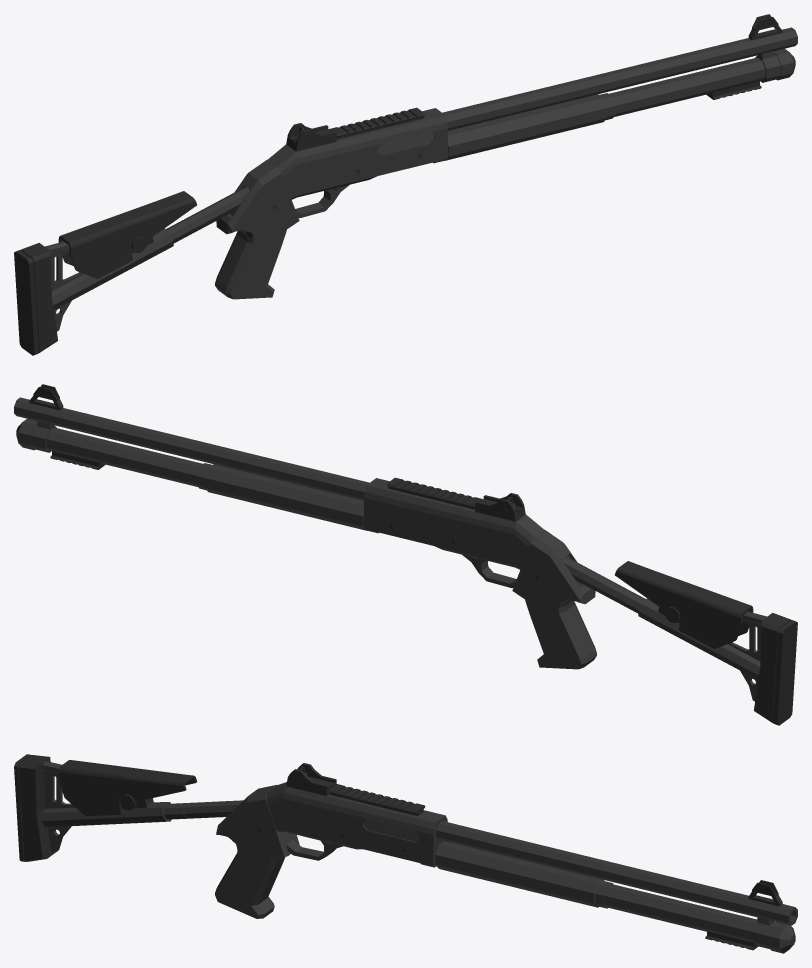
File: Shotgun2_01.fbx
The picture shows the model from 3 angles, top to bottom: view 1: azimuth 30°, elevation 25°; view 2: azimuth 150°, elevation 25°; view 3: azimuth 330°, elevation 25°; orthographic projection.
Parts seen in each view (by area): view 1: Shotgun2_01; view 2: Shotgun2_01; view 3: Shotgun2_01.
Part boxes in pixels (x1,y1,x2,y2): Shotgun2_01: [14, 14, 797, 355]; Shotgun2_01: [14, 384, 797, 725]; Shotgun2_01: [14, 754, 797, 953].
Bounding box in the file's own units: 1.21 × 0.235 × 0.0439.
